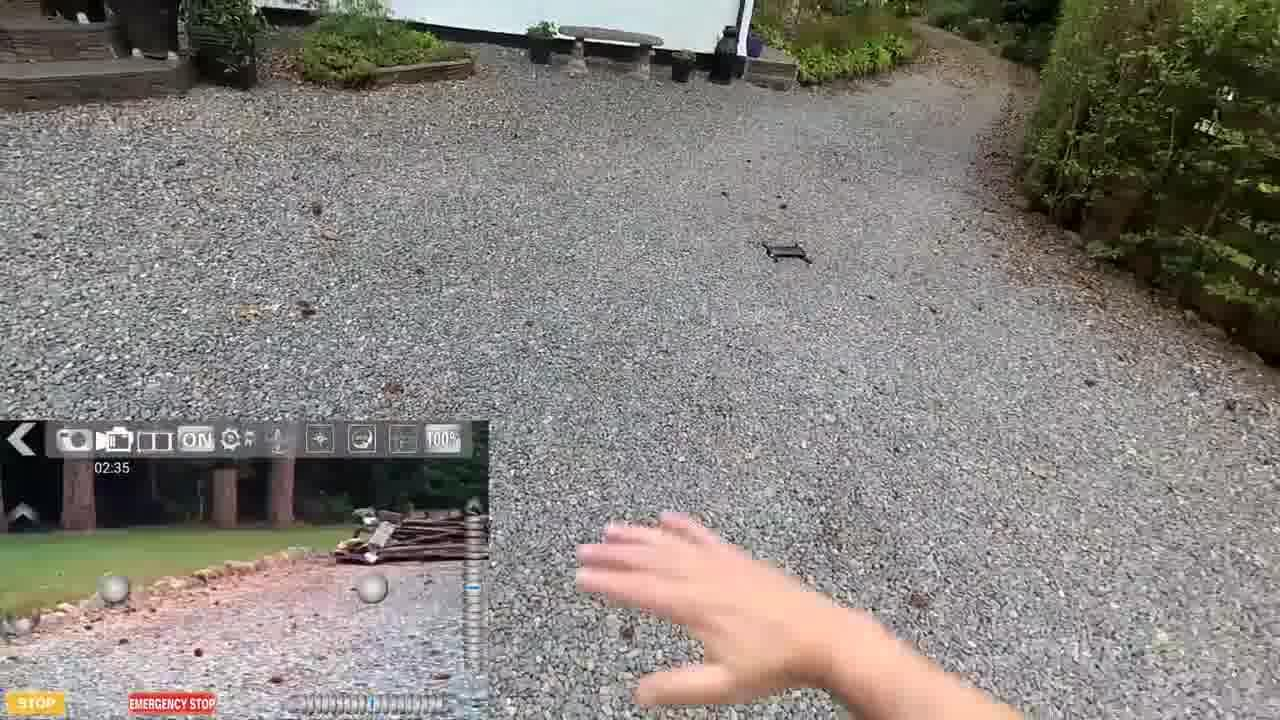drone: (750, 233, 823, 269)
